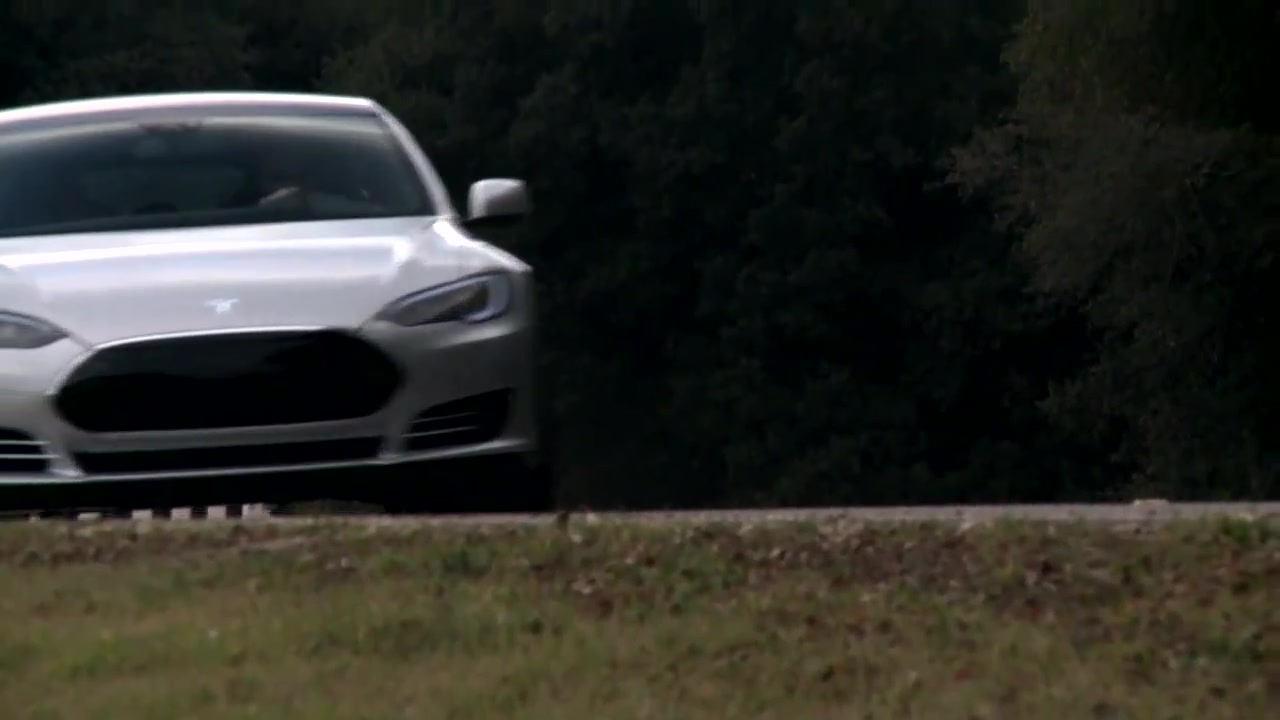car: (3, 88, 542, 519)
